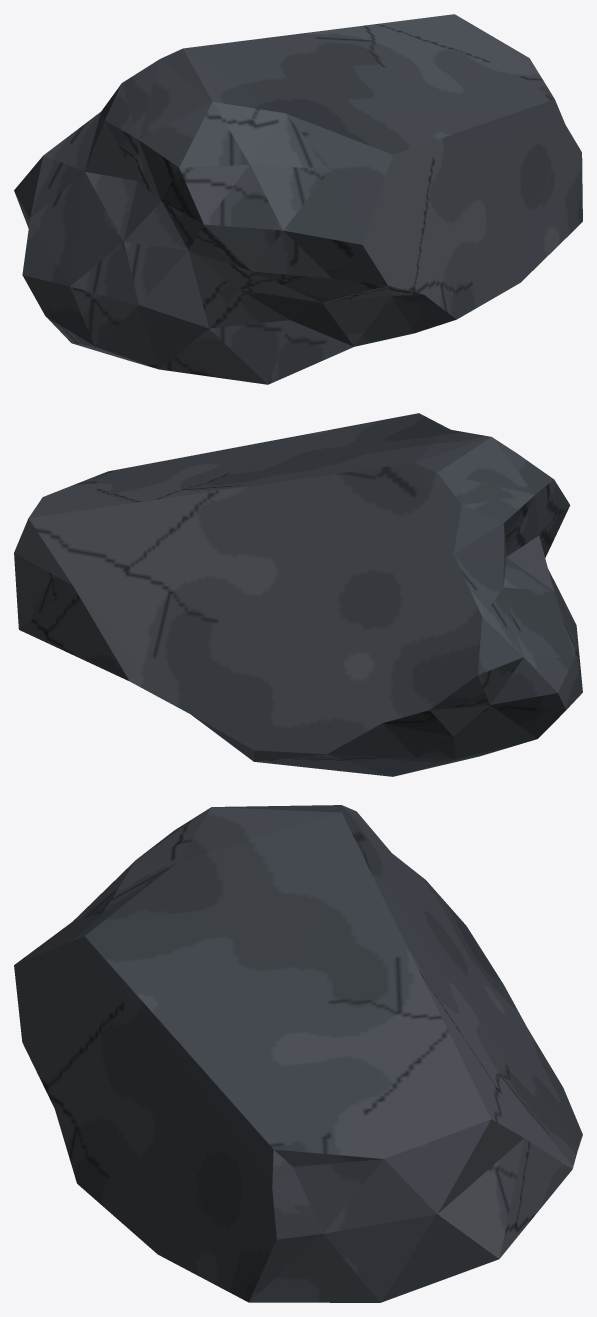
The model's file is rock_break1_v1.fbx.
3 views of the same model, one above another, from view 1: azimuth 30°, elevation 25°; view 2: azimuth 150°, elevation 25°; view 3: azimuth 270°, elevation 25° (orthographic). The views are drawn at different scales.
Visible parts, largest first — view 1: rock_break1_v1_lod0, rock_break1_v1_p4, rock_break1_v1_p1, rock_break1_v1_p2, rock_break1_v1_p0, rock_break1_v1_p3; view 2: rock_break1_v1_lod0, rock_break1_v1_p5, rock_break1_v1_p4, rock_break1_v1_p6, rock_break1_v1_p3, rock_break1_v1_p0; view 3: rock_break1_v1_lod0, rock_break1_v1_p1, rock_break1_v1_p4, rock_break1_v1_p2, rock_break1_v1_p5, rock_break1_v1_p6.
Boxes of the visible parts, bbox=[...] form: rock_break1_v1_lod0: bbox=[14, 14, 559, 384]; rock_break1_v1_p4: bbox=[89, 61, 423, 384]; rock_break1_v1_p1: bbox=[406, 103, 546, 334]; rock_break1_v1_p2: bbox=[483, 33, 582, 251]; rock_break1_v1_p0: bbox=[43, 271, 208, 376]; rock_break1_v1_p3: bbox=[14, 104, 106, 287]; rock_break1_v1_lod0: bbox=[14, 413, 582, 776]; rock_break1_v1_p5: bbox=[23, 484, 271, 679]; rock_break1_v1_p4: bbox=[266, 414, 568, 589]; rock_break1_v1_p6: bbox=[129, 555, 281, 723]; rock_break1_v1_p3: bbox=[220, 540, 561, 762]; rock_break1_v1_p0: bbox=[233, 635, 581, 776]; rock_break1_v1_lod0: bbox=[14, 805, 582, 1302]; rock_break1_v1_p1: bbox=[54, 967, 263, 1253]; rock_break1_v1_p4: bbox=[22, 805, 452, 1106]; rock_break1_v1_p2: bbox=[203, 1126, 509, 1302]; rock_break1_v1_p5: bbox=[399, 931, 571, 1226]; rock_break1_v1_p6: bbox=[446, 979, 577, 1170].
Size of what is drawn, in the model's own units: 133 by 71.22 by 104.
